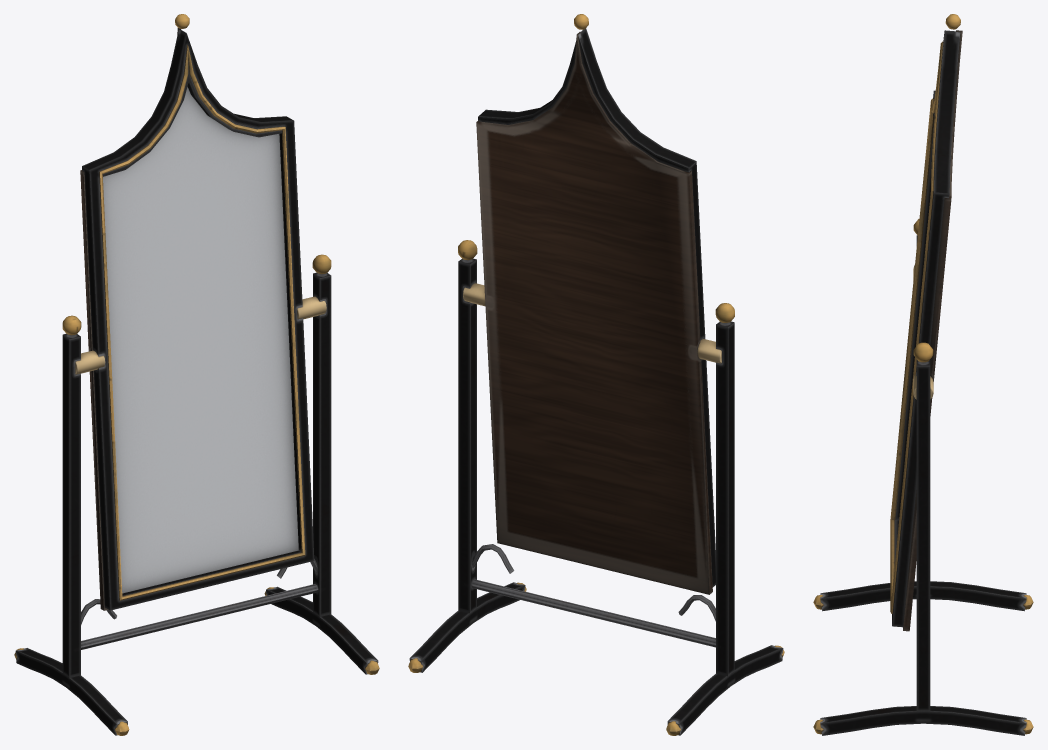
File: FloorMirror.fbx
3 renders of one model, left to right at view 1: azimuth 30°, elevation 25°; view 2: azimuth 150°, elevation 25°; view 3: azimuth 270°, elevation 25°, orthographic. The views are drawn at different scales.
Visible parts, largest first — view 1: FloorMirror_Mirror, FloorMirror_Main; view 2: FloorMirror_Main; view 3: FloorMirror_Main.
Part boxes in pixels (x1,y1,x2,y2): FloorMirror_Mirror: (103, 87, 298, 593); FloorMirror_Main: (14, 14, 379, 735); FloorMirror_Main: (408, 14, 784, 735); FloorMirror_Main: (813, 14, 1033, 735).
Size of the model in its own units: 276 by 639 by 194.
